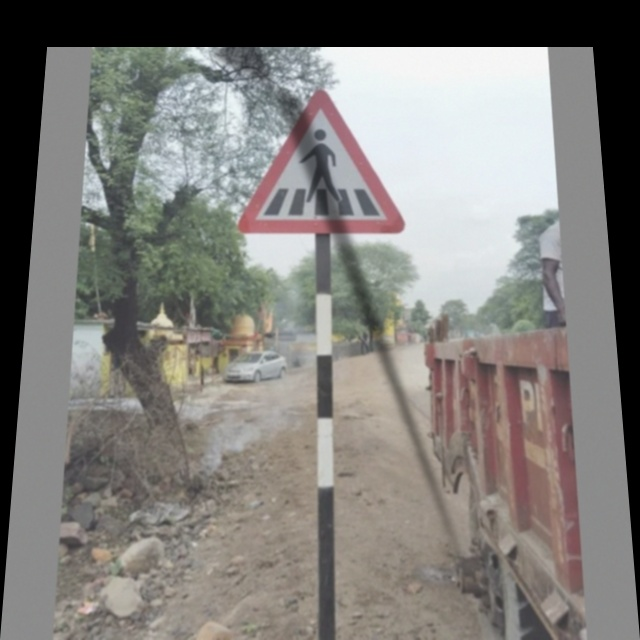Pedestrian_Crossing: (239, 92, 414, 238)
